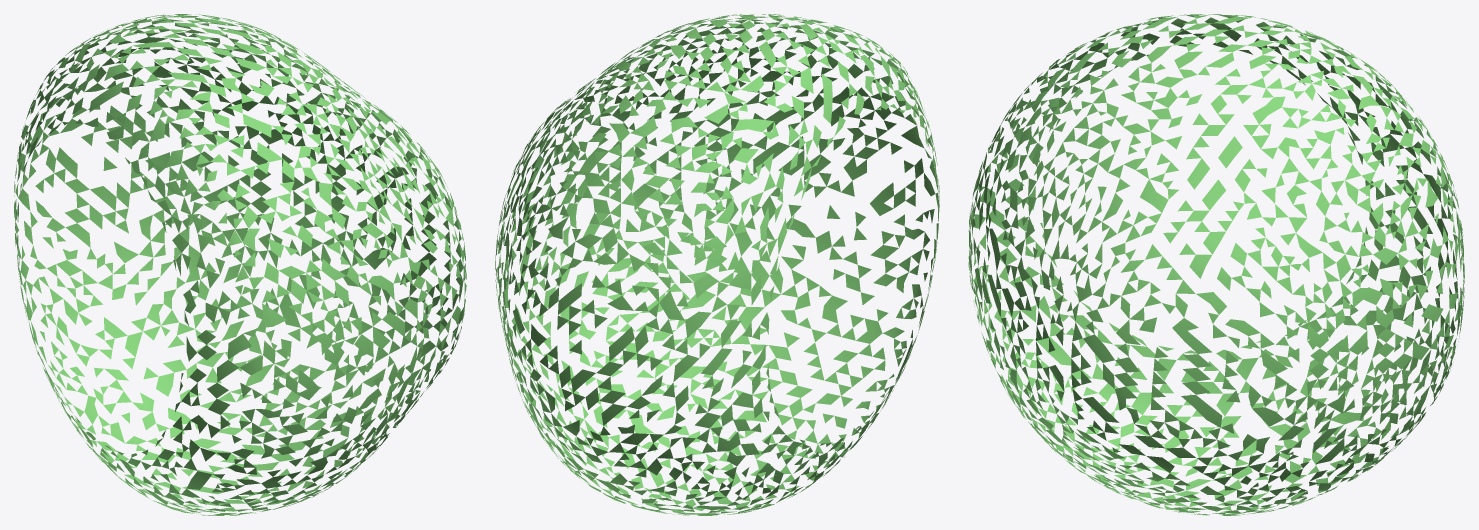
The model's file is morph_016.glb.
3 renders of one model, left to right at view 1: azimuth 30°, elevation 25°; view 2: azimuth 150°, elevation 25°; view 3: azimuth 270°, elevation 25°, orthographic. The views are drawn at different scales.
Bounding box in the file's own units: 17.28 × 23.14 × 23.1.
